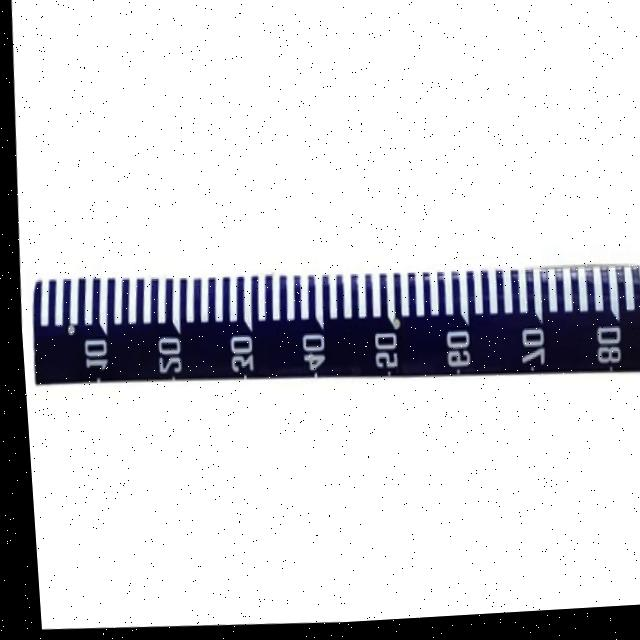water-meter: (24, 221, 640, 414)
